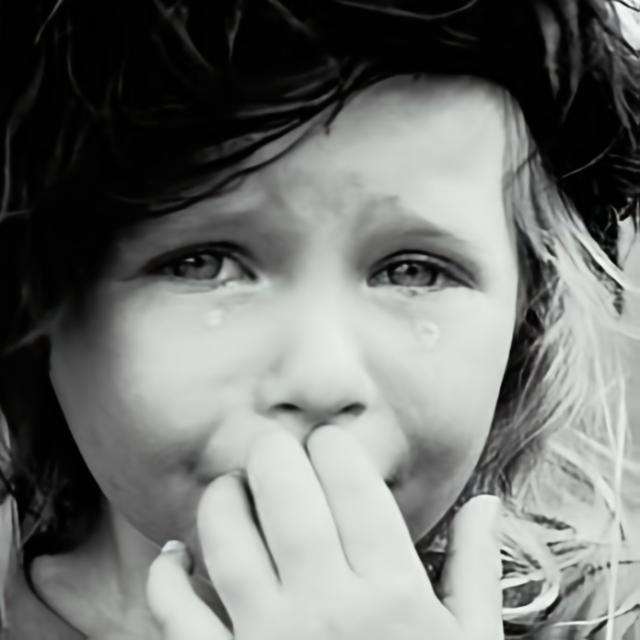sad: (48, 71, 522, 608)
